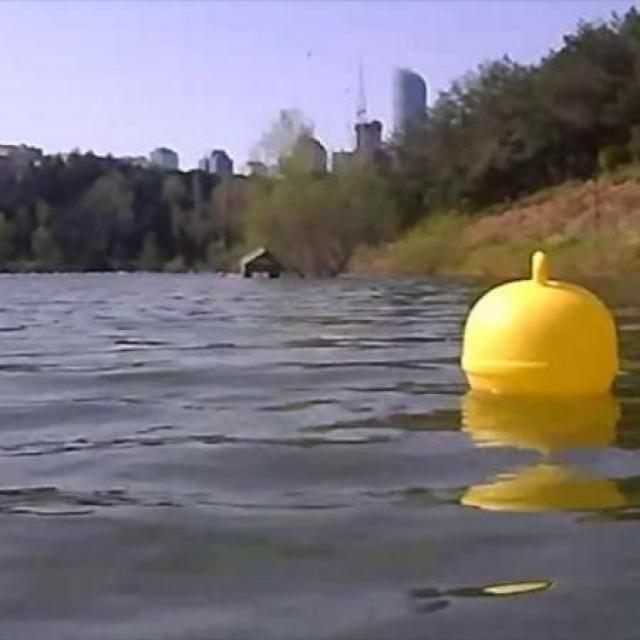buoy: (462, 252, 622, 402)
